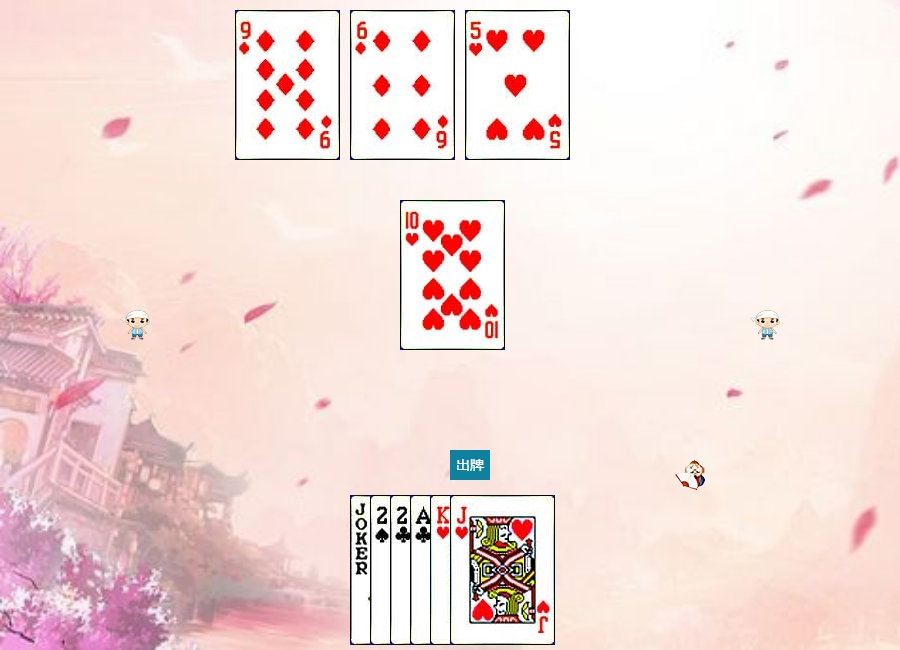10~3: (400, 200, 505, 350)
11~3: (450, 495, 555, 645)
13~3: (430, 495, 535, 645)
14~2: (410, 495, 515, 645)
15~2: (390, 495, 495, 645)
15~4: (370, 495, 475, 645)
17~3: (350, 495, 455, 645)
5~3: (465, 10, 570, 160)
6~1: (350, 10, 455, 160)
9~1: (235, 10, 340, 160)
